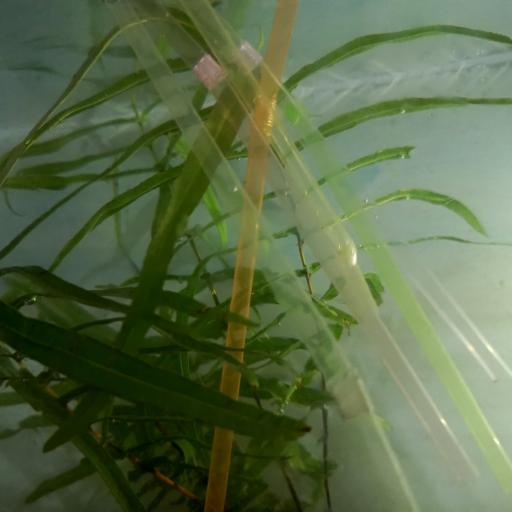plastic_straw: (141, 4, 484, 488), (191, 0, 512, 498), (113, 10, 419, 512), (193, 8, 512, 385), (203, 0, 297, 512)
